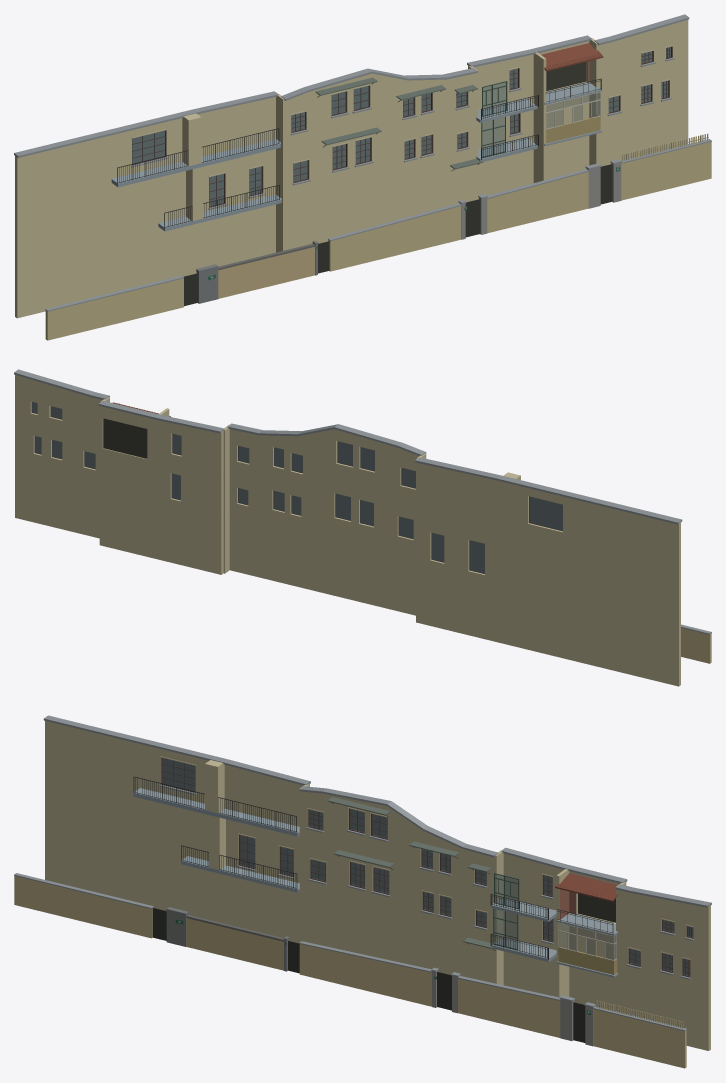
File: full-source.glb
3 renders of one model, top to bottom at view 1: azimuth 30°, elevation 25°; view 2: azimuth 150°, elevation 25°; view 3: azimuth 330°, elevation 25°, orthographic.
Parts seen in each view (by area): view 1: 栖霞村6–9号院向立面; view 2: 栖霞村6–9号院向立面; view 3: 栖霞村6–9号院向立面.
Boxes of the visible parts, <box> form: 栖霞村6–9号院向立面: <box>14,14,711,340</box>; 栖霞村6–9号院向立面: <box>14,369,711,686</box>; 栖霞村6–9号院向立面: <box>14,715,711,1068</box>.
Size of the model in its own units: 38.68 by 9.35 by 3.46.
